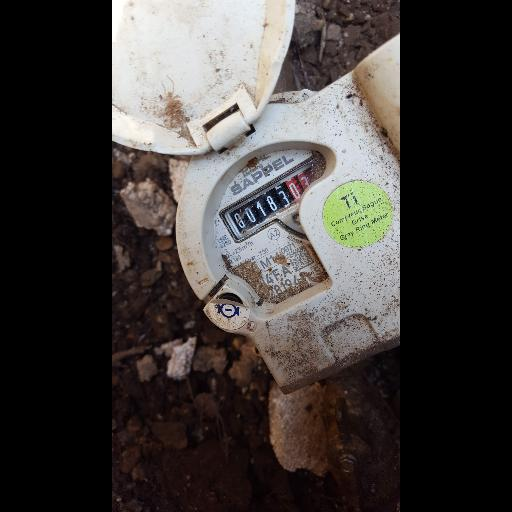0: (283, 176, 307, 205), (239, 202, 262, 229), (229, 208, 251, 235)
1: (250, 195, 273, 223)
3: (271, 183, 295, 212), (295, 170, 316, 193)
8: (259, 189, 283, 217)
border_water_meter_number: (218, 155, 338, 246)
